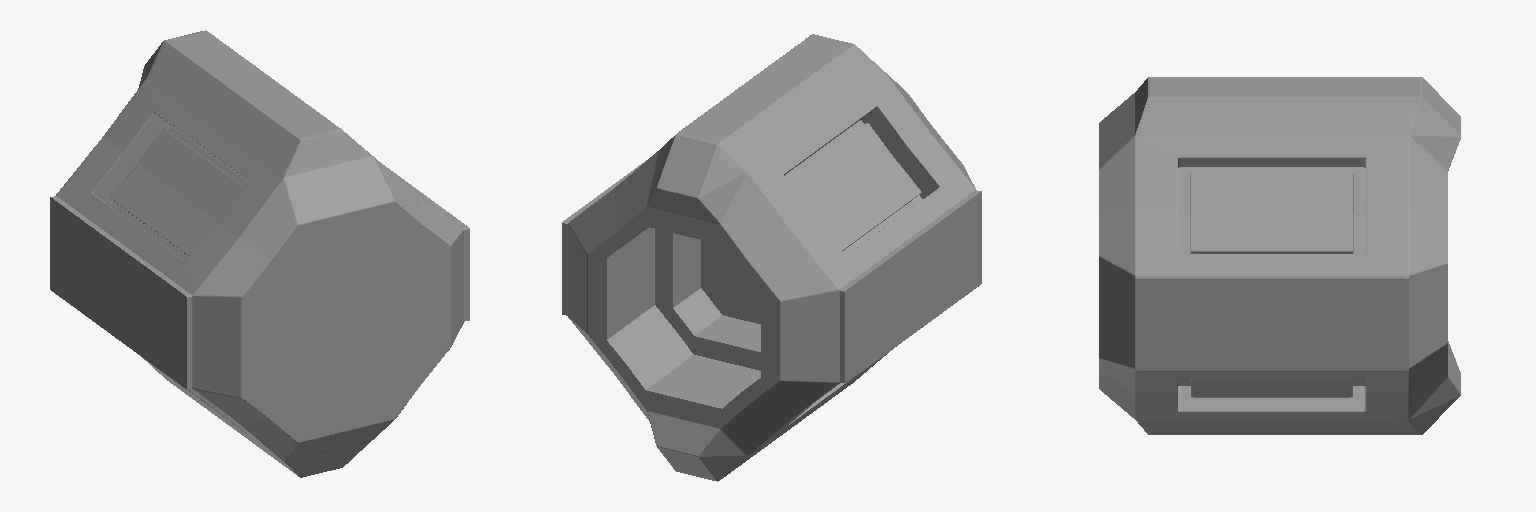
File: EngineBack01.obj
3 views of the same model, side by side, from view 1: azimuth 30°, elevation 25°; view 2: azimuth 150°, elevation 25°; view 3: azimuth 270°, elevation 25° (orthographic).
Parts seen in each view (by area): view 1: EngineBack01_Cube.001; view 2: EngineBack01_Cube.001; view 3: EngineBack01_Cube.001.
Part boxes in pixels (bbox=[...]): EngineBack01_Cube.001: bbox=[50, 30, 469, 477]; EngineBack01_Cube.001: bbox=[562, 34, 981, 481]; EngineBack01_Cube.001: bbox=[1099, 77, 1460, 434].
Size of the model in its own units: 1.51 by 1.72 by 1.68.